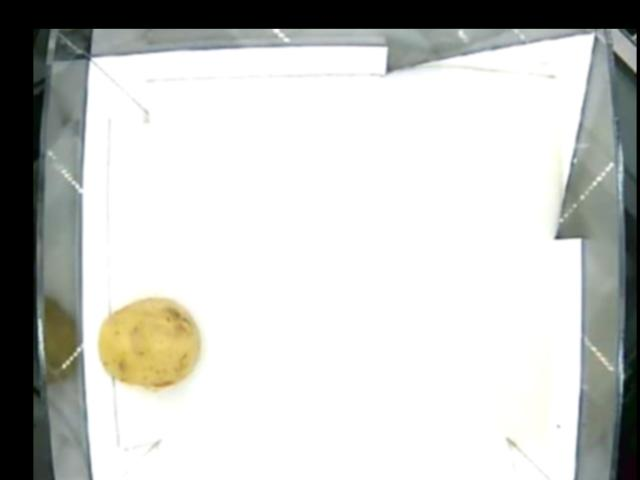Potato: (97, 296, 199, 390)
